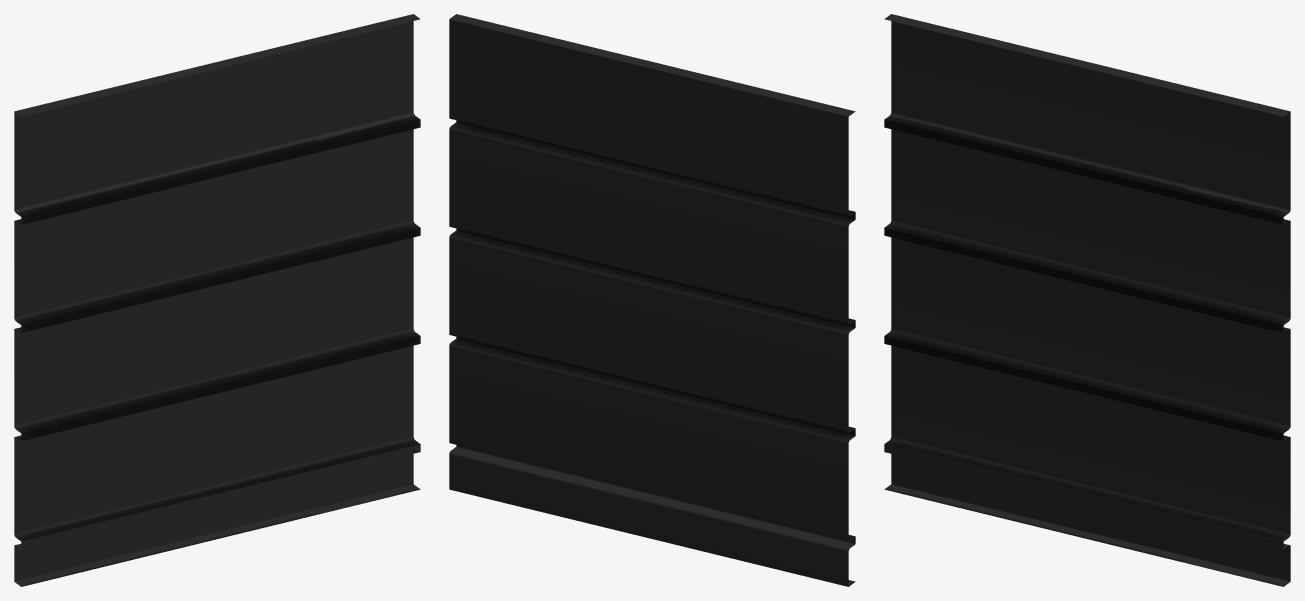
Rendered from VAL_4M_SW.fbx.
The picture shows the model from 3 angles, left to right: view 1: azimuth 30°, elevation 25°; view 2: azimuth 150°, elevation 25°; view 3: azimuth 330°, elevation 25°; orthographic projection.
Parts seen in each view (by area): view 1: VAL_4M_SW; view 2: VAL_4M_SW; view 3: VAL_4M_SW.
Part boxes in pixels (left/top/right/bottom): VAL_4M_SW: left=14, top=14, right=420, bottom=586; VAL_4M_SW: left=449, top=14, right=855, bottom=586; VAL_4M_SW: left=884, top=14, right=1290, bottom=586.
Bounding box in the file's own units: 4 × 4.5 × 0.125.
